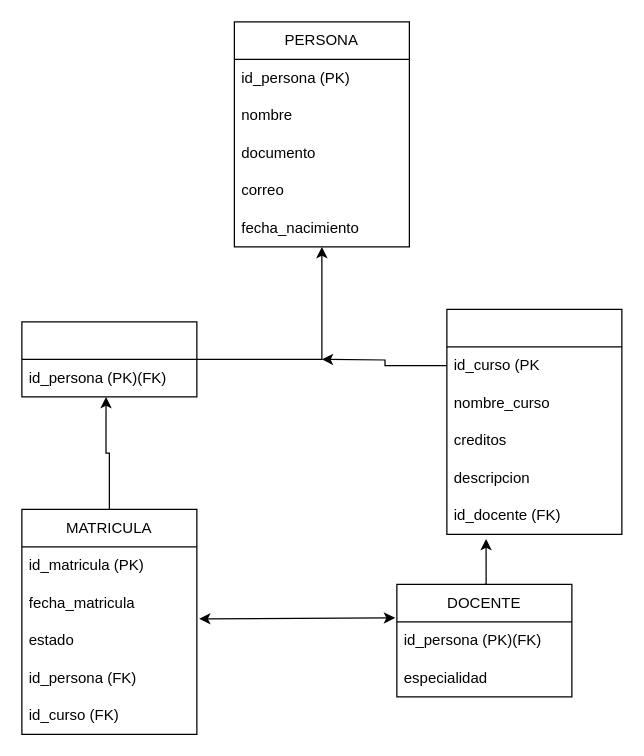
Image size: 644x756. Some labels were removed from this diagram. The shapes that lost their labels are listed below. From the top down, each one's box as (x1, y1, x2, y2) in pixels, then its label:
(21, 321, 197, 397): ESTUDIANTE
(446, 308, 622, 534): CUSO
